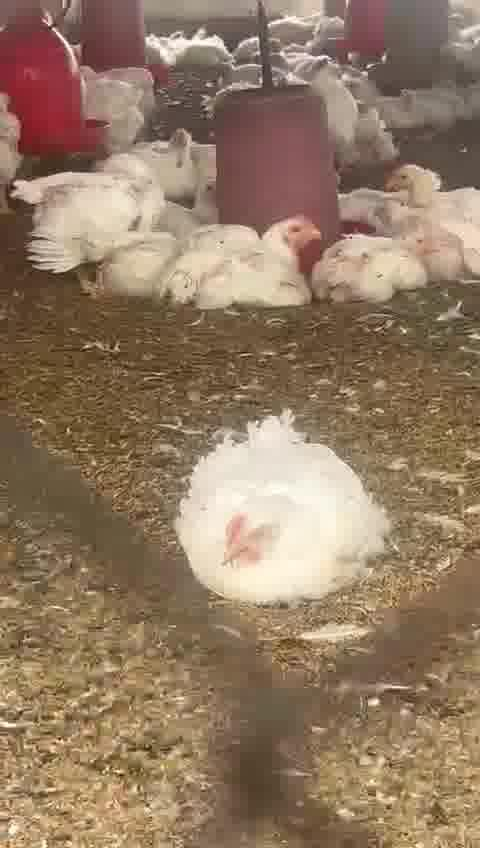AbNormal: (177, 415, 385, 603), (166, 209, 325, 310), (387, 155, 480, 276)
